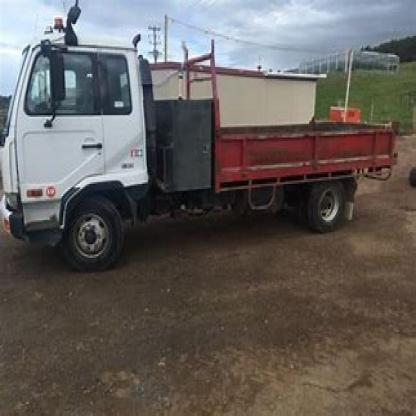dump_truck: (1, 10, 412, 272)
